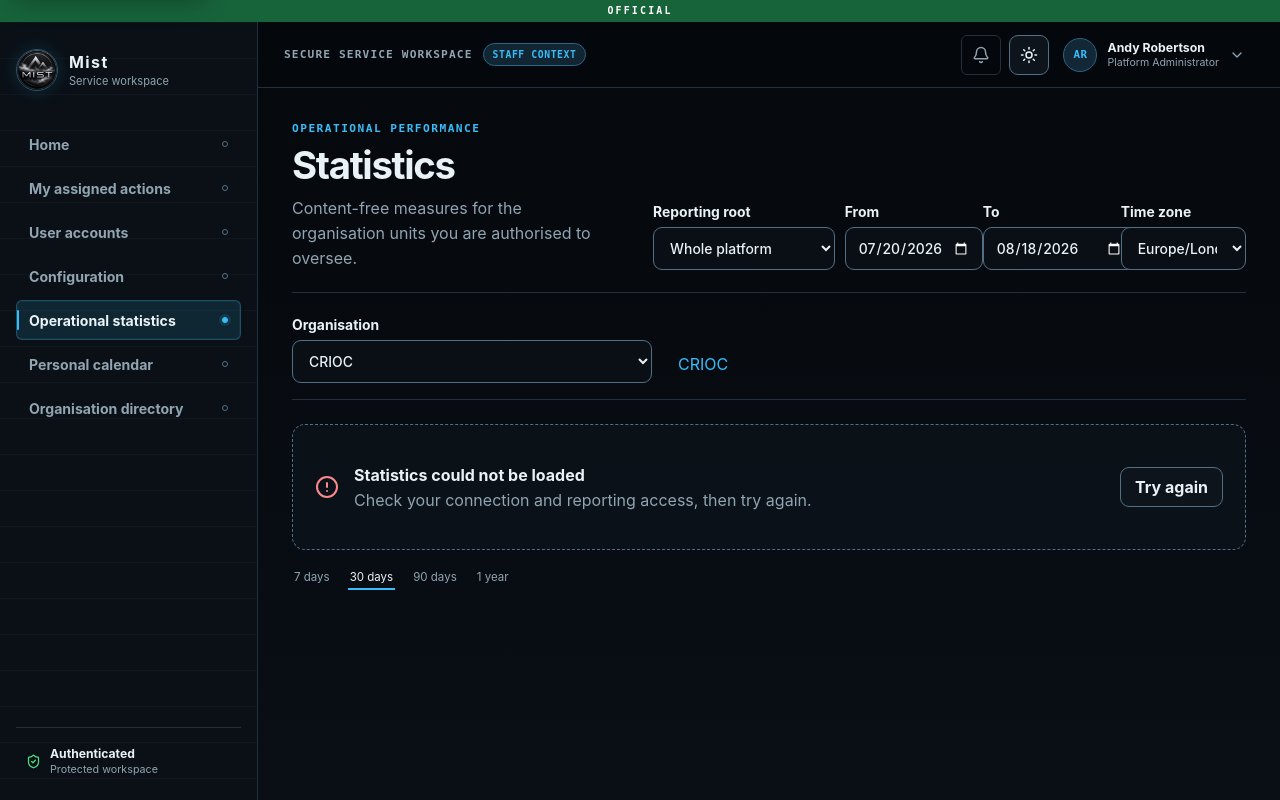
operational statistics › reports dashboard failures and renders an empty degraded projection
The width and height of the screenshot is (1280, 800).
Click the button "Try again". click: (1172, 487)
box: [1120,467,1223,507]
(page scrolled)
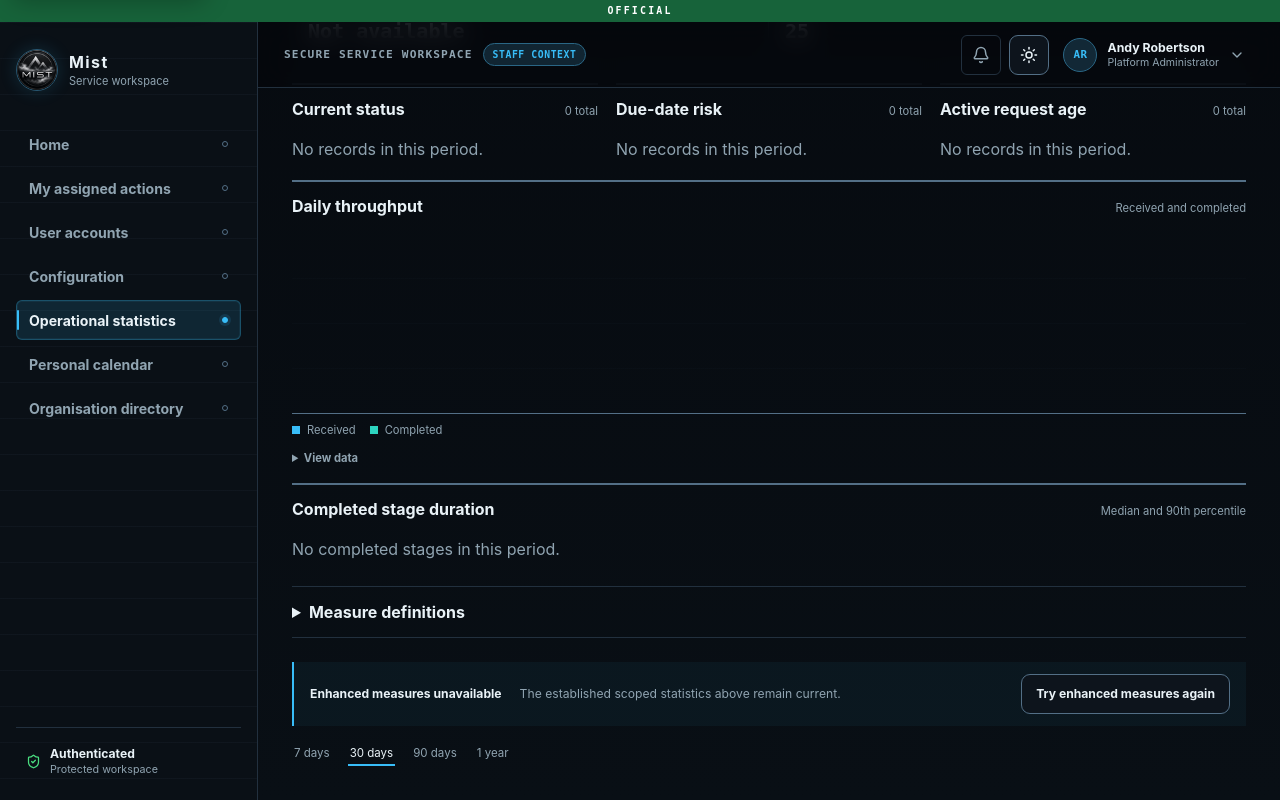
Expected: the text "No records in this period." is shown 3 times, [292,139,483,159]; [616,139,807,159]; [940,139,1131,159]
Expected: the text "No completed stages in this period." is shown, [292,539,560,559]
